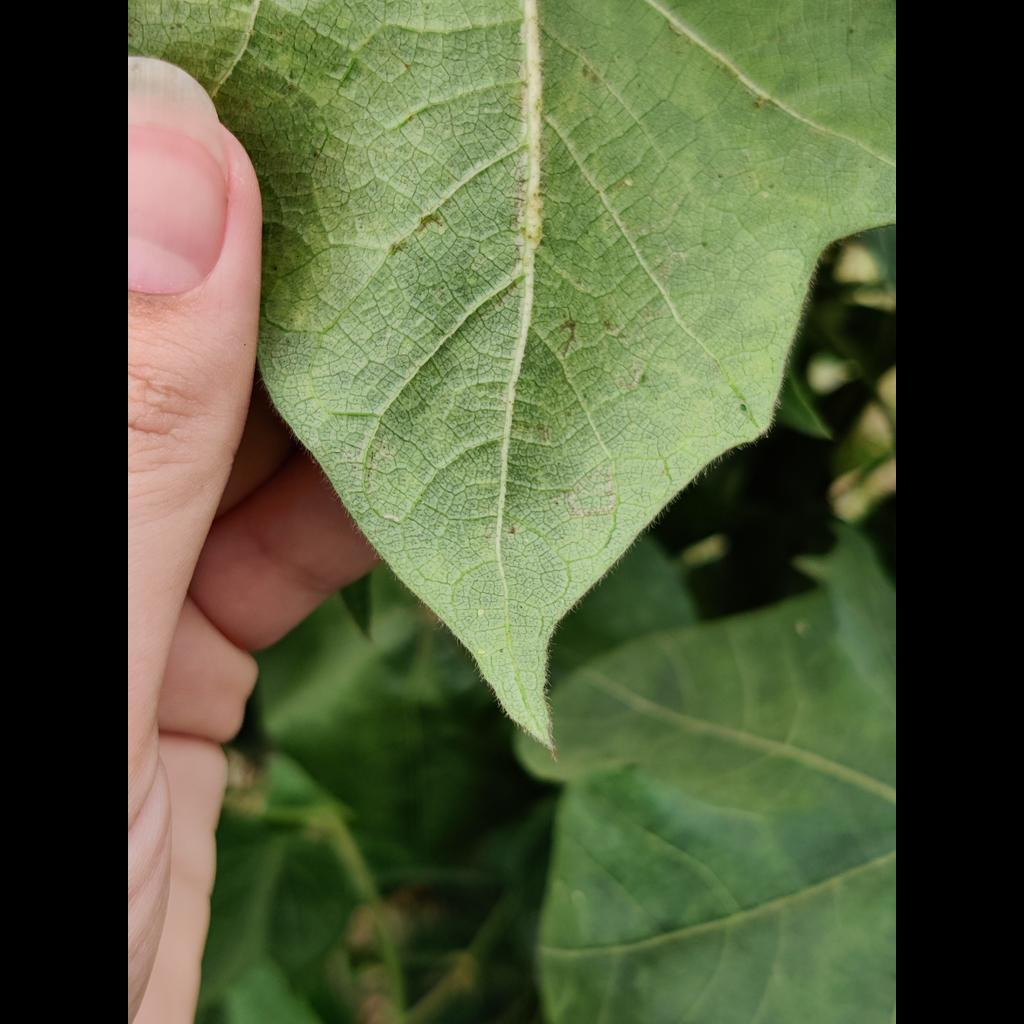nymph: (623, 178, 633, 187), (477, 609, 484, 616), (383, 514, 393, 518), (393, 516, 399, 521)
